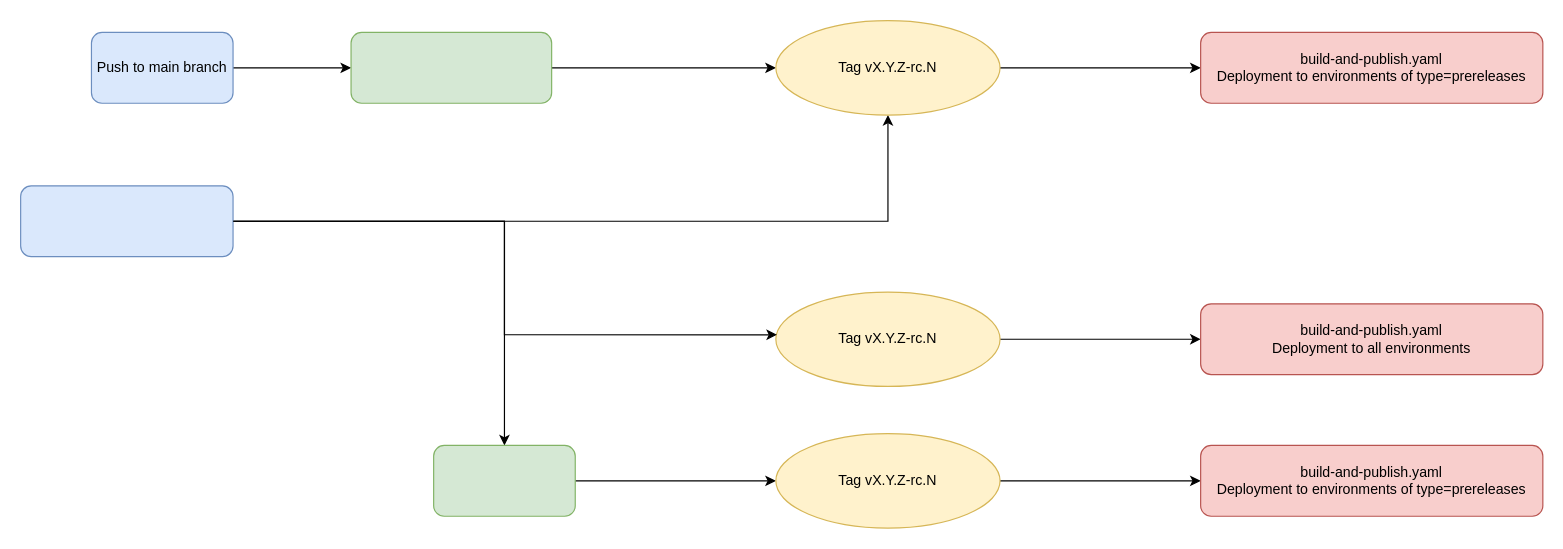
Image size: 1563x549. Some labels were removed from this diagram. Each missing label, with the centre of its shape:
"Manual execution of workflow release.yaml" goes at (x=126, y=221).
"Push outside of main" goes at (x=503, y=480).
"Workflow: prerelease.yaml" goes at (x=451, y=67).
